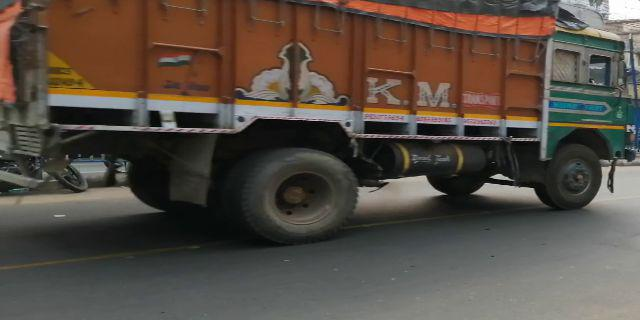Truck: (2, 1, 627, 233)
